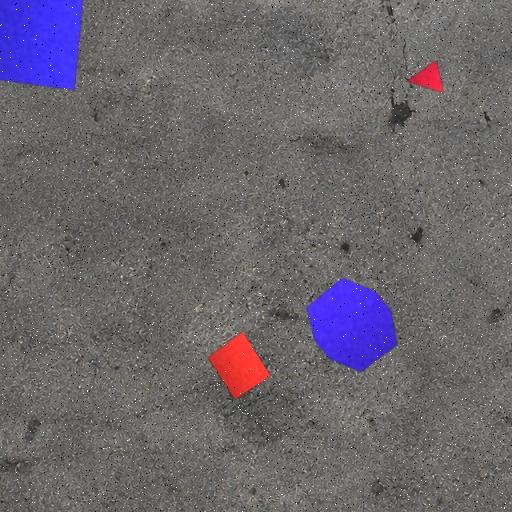BLUE_SQUARE: (0, 0, 84, 91)
RED_SQUARE: (206, 330, 272, 401)
